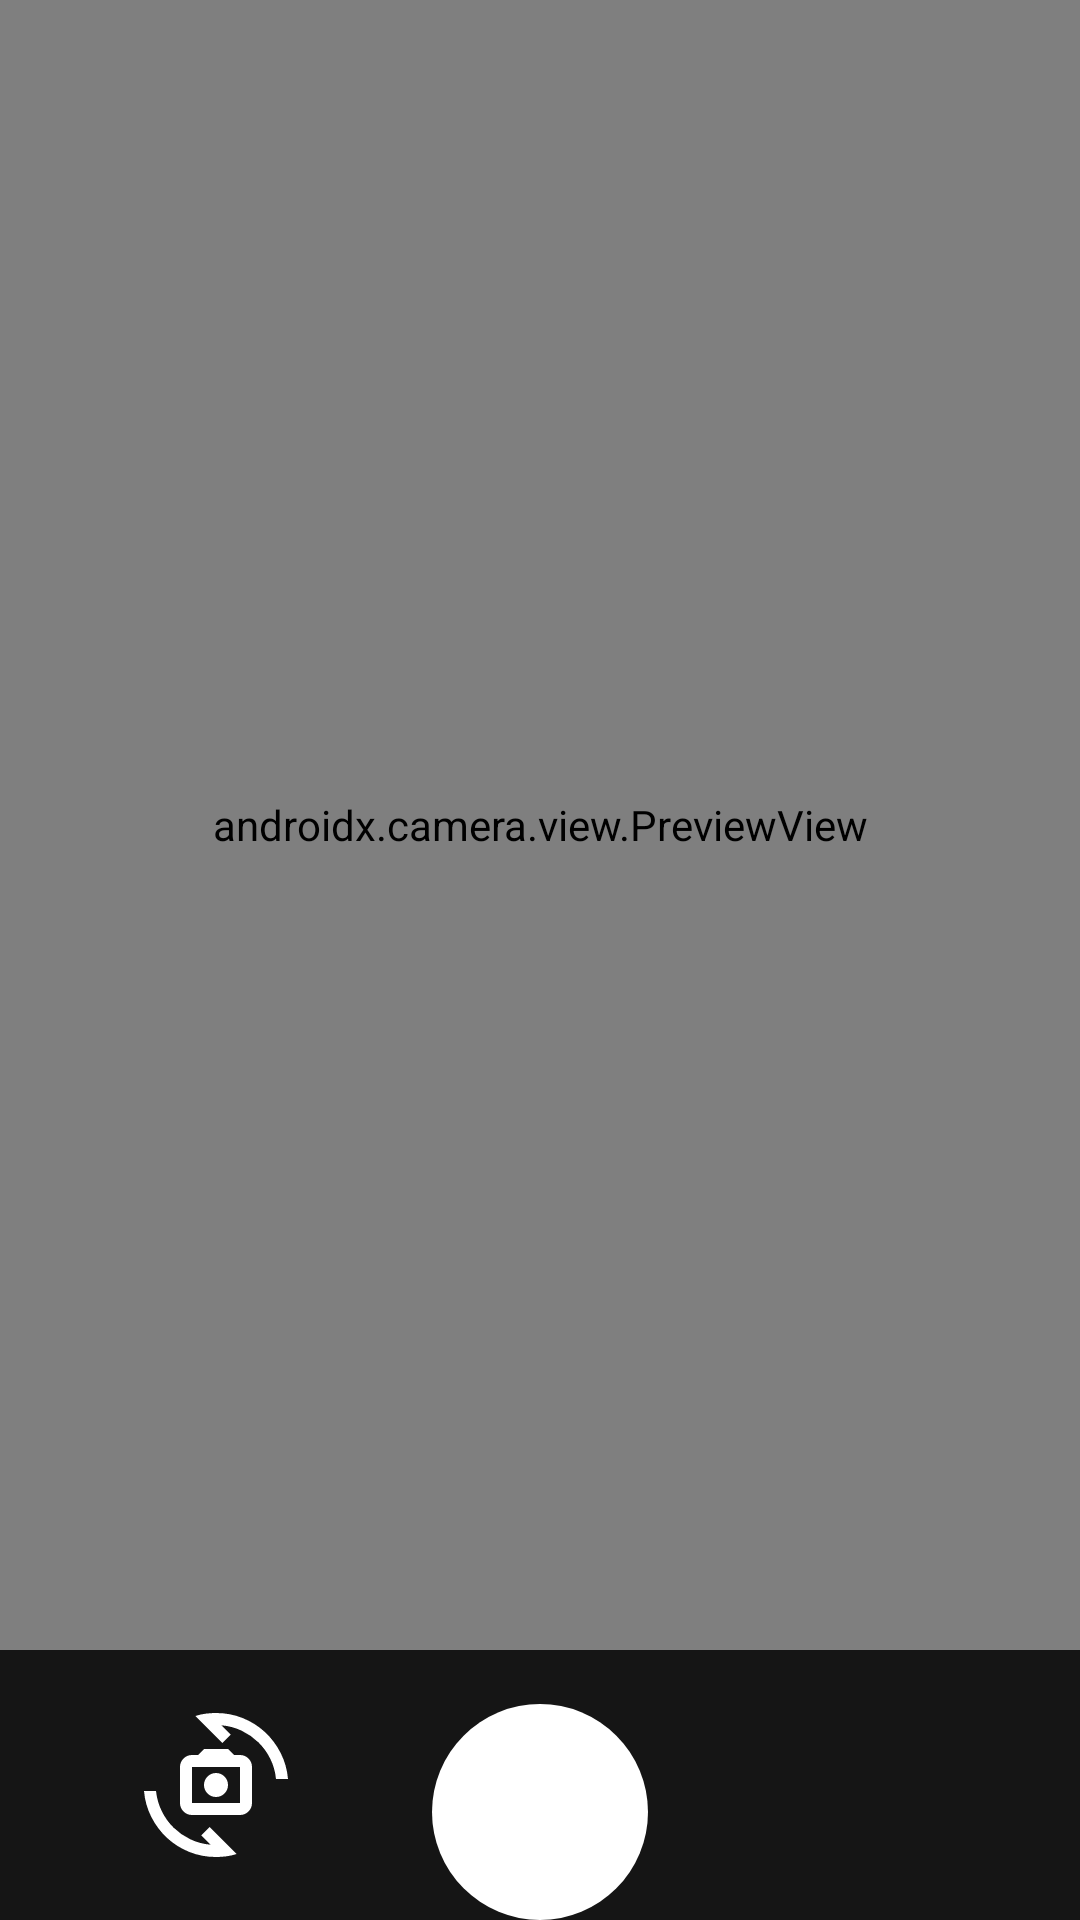

Where to tap for icons on this 1080px×1920px app screen, as (x,y):
Сменить камеру: (216,1785)
